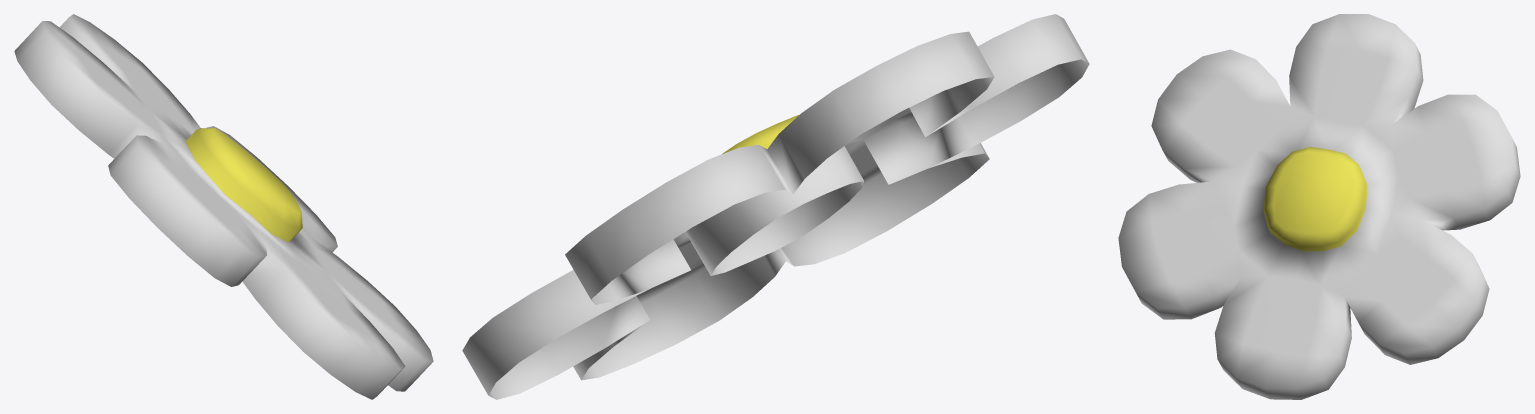
File: flor.glb
3 views of the same model, side by side, from view 1: azimuth 30°, elevation 25°; view 2: azimuth 150°, elevation 25°; view 3: azimuth 270°, elevation 25° (orthographic). The views are drawn at different scales.
Visible parts, largest first — view 1: flor; view 2: flor; view 3: flor.
Part boxes in pixels (x1,y1,x2,y2): flor: [14, 14, 433, 399]; flor: [462, 14, 1089, 399]; flor: [1118, 14, 1520, 399].
Bounding box in the file's own units: 0.1848 × 0.1858 × 0.2429.
